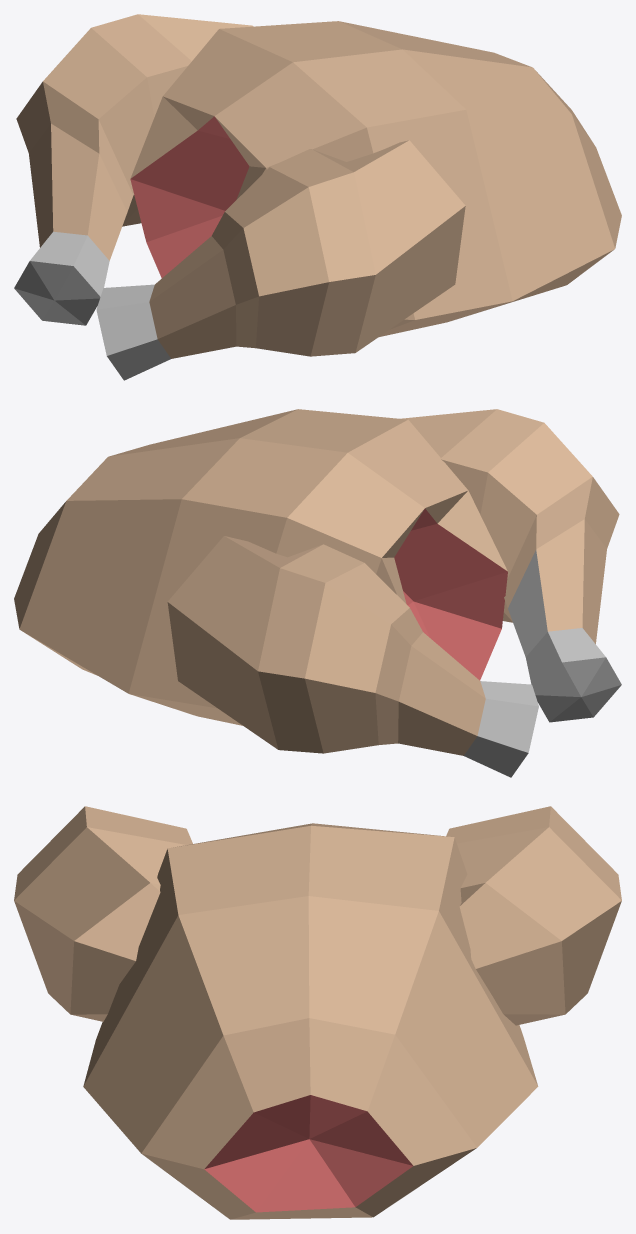
The model's file is Turkey_Raw.fbx.
3 views of the same model, one above another, from view 1: azimuth 30°, elevation 25°; view 2: azimuth 150°, elevation 25°; view 3: azimuth 270°, elevation 25° (orthographic). The views are drawn at different scales.
Visible parts, largest first — view 1: Turkey_Raw; view 2: Turkey_Raw; view 3: Turkey_Raw.
Part boxes in pixels (x1,y1,x2,y2): Turkey_Raw: (14,14,621,380); Turkey_Raw: (14,409,621,777); Turkey_Raw: (14,806,621,1219).
Size of the model in its own units: 0.8968 by 0.4388 by 0.8596.
